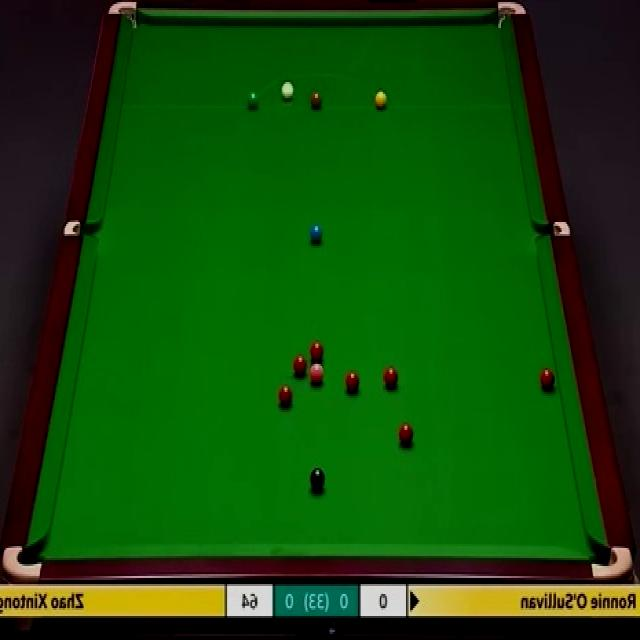black-ball: (310, 466, 326, 491)
blue-ball: (310, 225, 324, 242)
brown-ball: (310, 89, 323, 108)
green-ball: (245, 88, 260, 110)
pink-ball: (308, 363, 324, 387)
red-ball: (384, 364, 398, 390), (399, 422, 414, 446), (540, 368, 556, 390), (294, 353, 308, 378), (279, 384, 292, 410), (345, 371, 359, 393), (308, 341, 324, 360)
white-ball: (282, 81, 295, 99)
yellow-ball: (375, 90, 387, 110)
